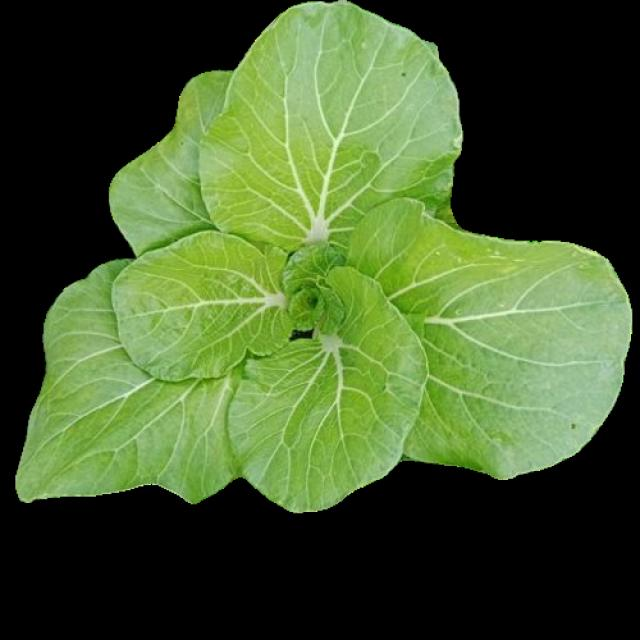mature: (18, 1, 628, 514)
unhealthy: (343, 198, 625, 475), (202, 7, 461, 235)
